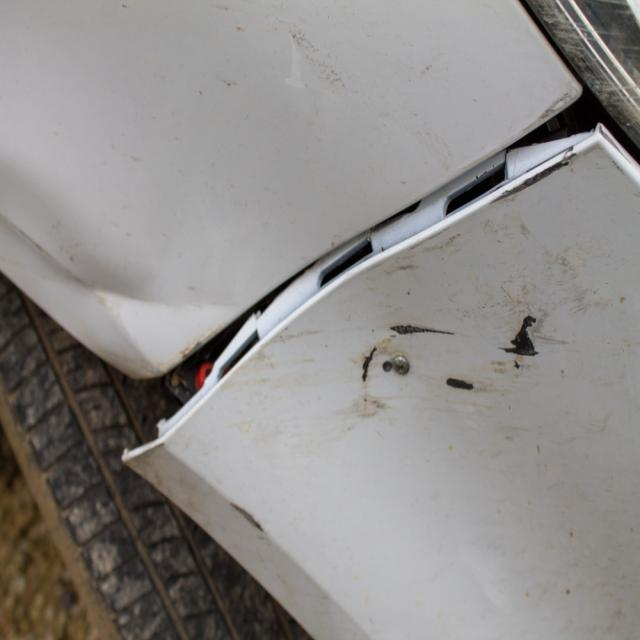scratch: (224, 153, 636, 449)
